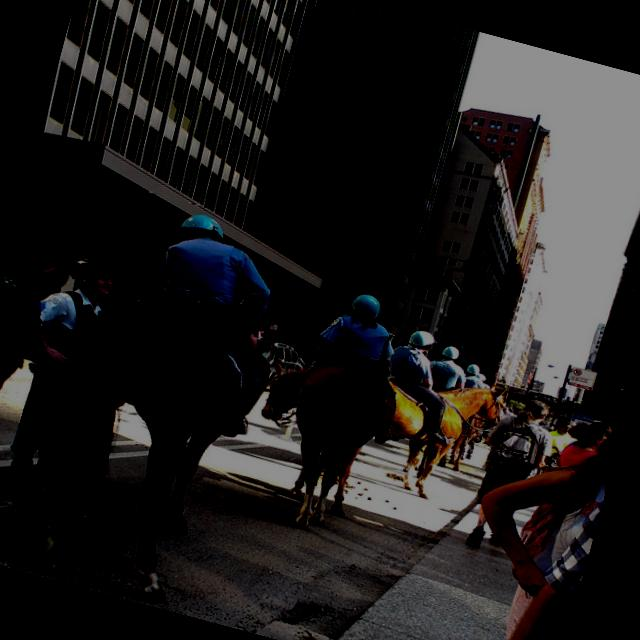Vehicle: (248, 337, 310, 390)
